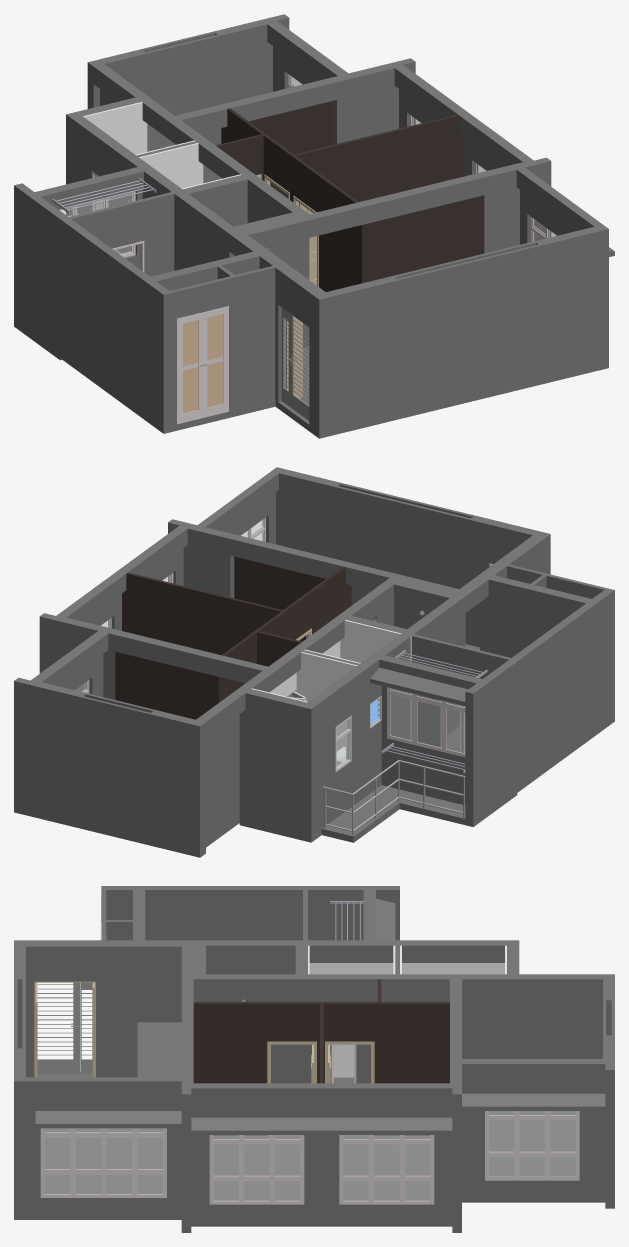
Rendered from IFC_SG_Training_Model_Archi_-_AC_27.glb.
The picture shows the model from 3 angles, top to bottom: view 1: azimuth 30°, elevation 25°; view 2: azimuth 150°, elevation 25°; view 3: azimuth 270°, elevation 25°; orthographic projection. The views are drawn at different scales.
Visible parts, largest first — view 1: Fake; view 2: Fake; view 3: Fake.
Boxes of the visible parts, bbox=[...] form: Fake: bbox=[14, 14, 614, 438]; Fake: bbox=[14, 467, 614, 857]; Fake: bbox=[14, 886, 614, 1232].
Bounding box in the file's own units: 10.24 × 3.2 × 12.37.
